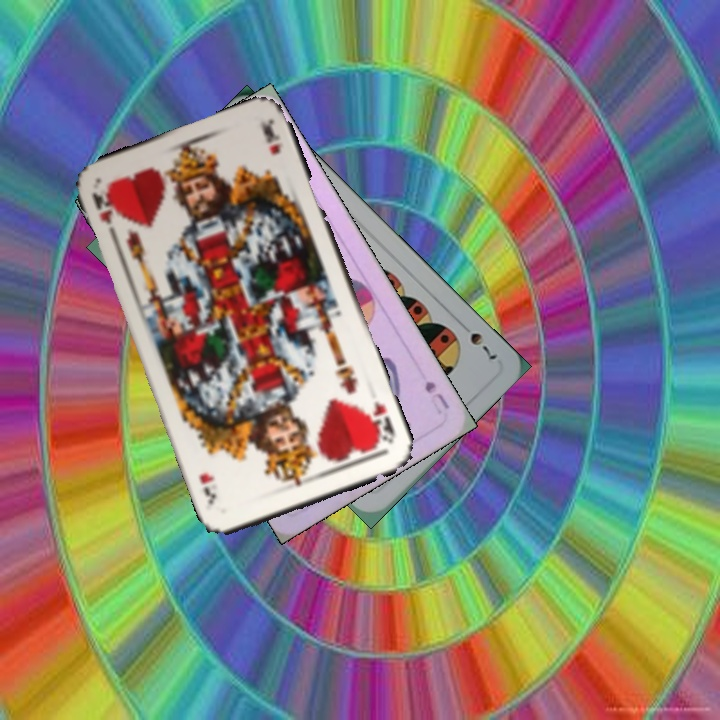HK: (88, 188, 121, 242), (365, 396, 398, 446)
S7: (454, 317, 499, 362)
SU: (420, 376, 452, 417)
